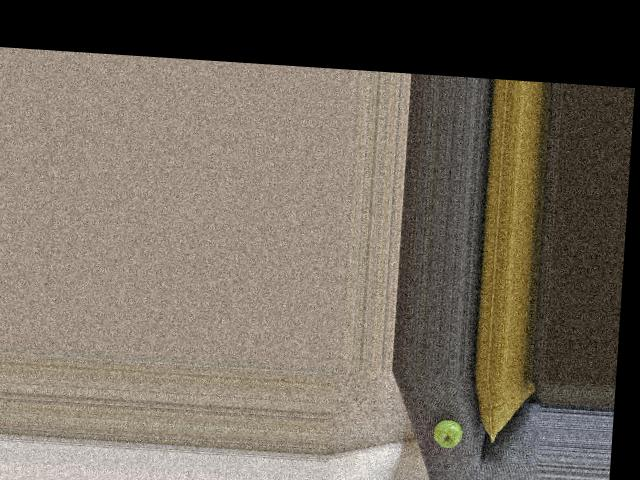apple: (432, 416, 464, 449)
